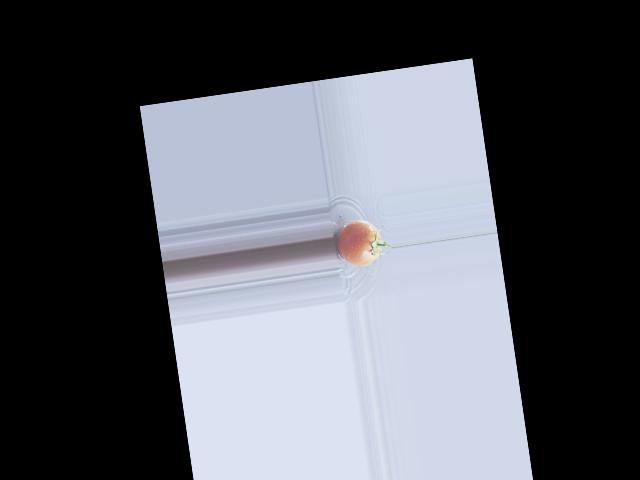tomato: (334, 217, 384, 268)
